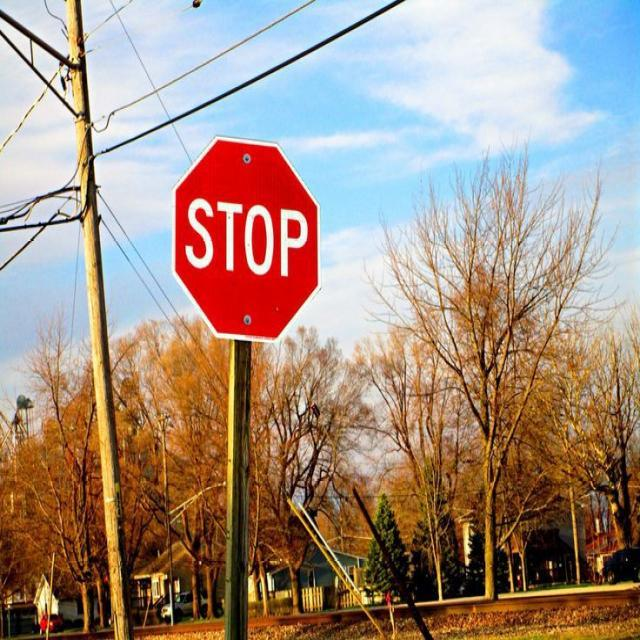stop: (171, 134, 320, 342)
